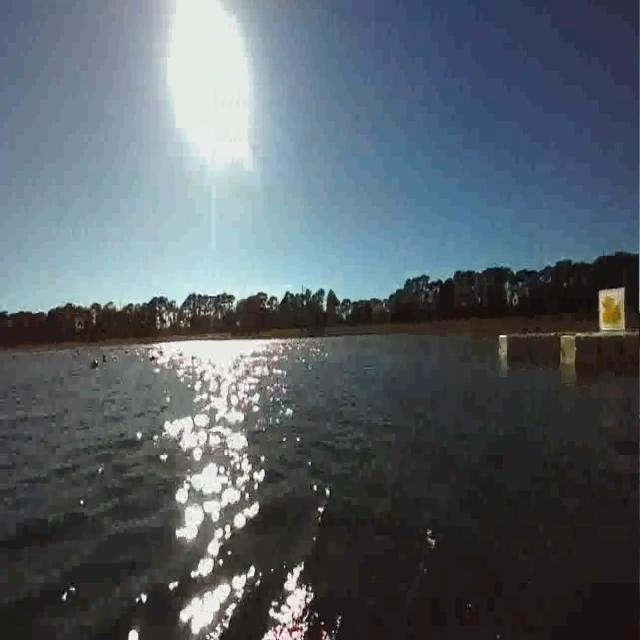yellow-duck: (598, 290, 622, 330)
